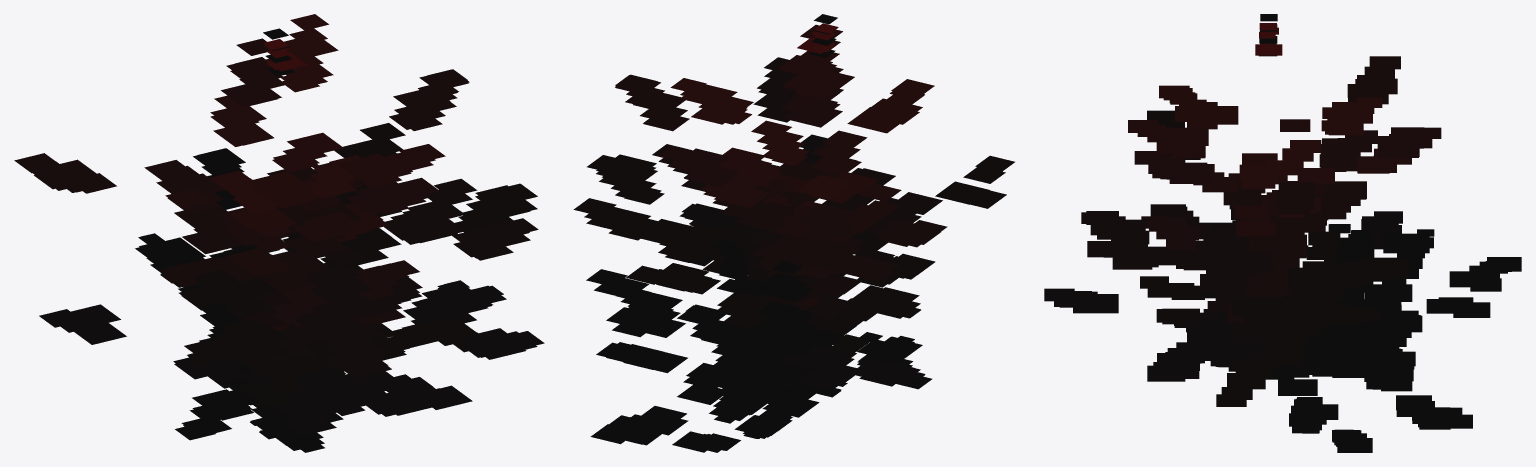
The model's file is baked_canopy00.fbx.
The picture shows the model from 3 angles, left to right: view 1: azimuth 30°, elevation 25°; view 2: azimuth 150°, elevation 25°; view 3: azimuth 270°, elevation 25°; orthographic projection. The views are drawn at different scales.
Parts seen in each view (by area): view 1: Baked canopy; view 2: Baked canopy; view 3: Baked canopy.
Boxes of the visible parts, box(x1,y1,x2,y2) form: Baked canopy: box(14, 14, 544, 452); Baked canopy: box(573, 14, 1014, 452); Baked canopy: box(1044, 14, 1521, 452).
Bounding box in the file's own units: 41024 × 43724 × 39427.
